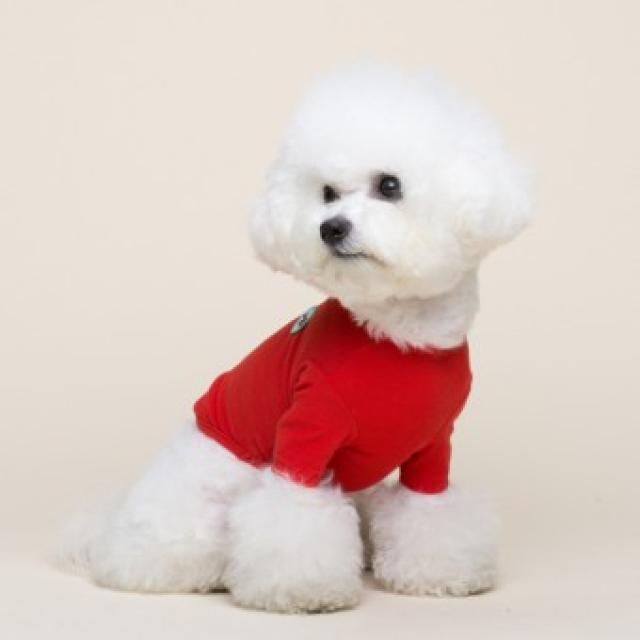cloth: (194, 299, 471, 493)
